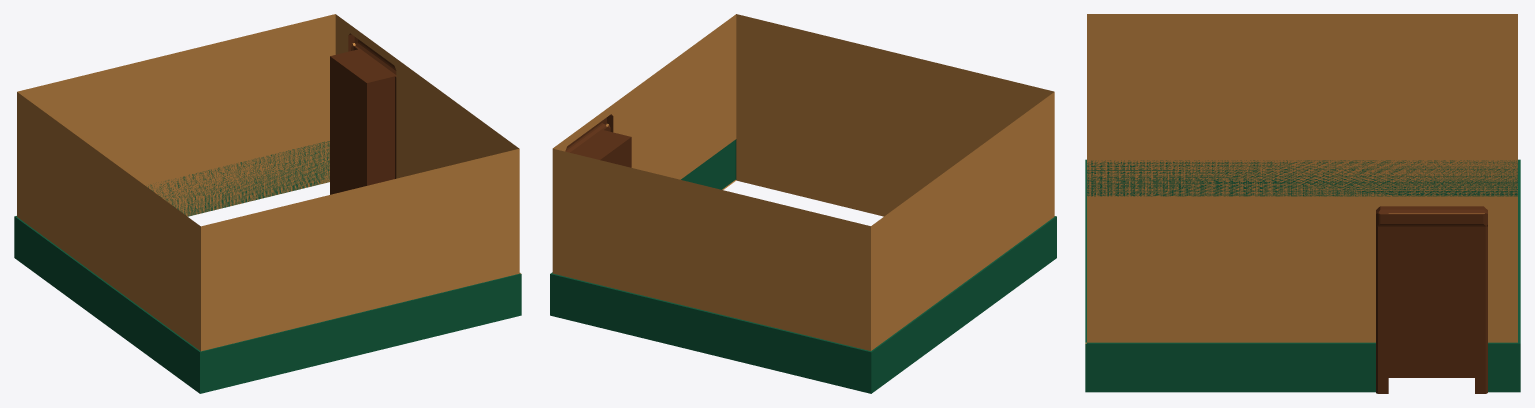
The model's file is Stucco bottom corner 4x3x4.fbx.
3 renders of one model, left to right at view 1: azimuth 30°, elevation 25°; view 2: azimuth 150°, elevation 25°; view 3: azimuth 270°, elevation 25°, orthographic. The views are drawn at different scales.
Parts seen in each view (by area): view 1: Stucco bottom Corner 4; view 2: Stucco bottom Corner 4; view 3: Stucco bottom Corner 4.
Boxes of the visible parts, bbox=[...] form: Stucco bottom Corner 4: bbox=[14, 14, 521, 393]; Stucco bottom Corner 4: bbox=[550, 14, 1056, 393]; Stucco bottom Corner 4: bbox=[1085, 14, 1520, 393].
Bounding box in the file's own units: 413 × 200 × 404.
